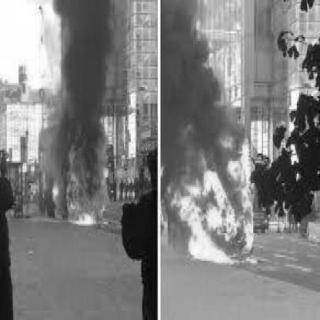Fire: (165, 122, 261, 270), (52, 120, 111, 228)
Smoke: (50, 0, 114, 109)
